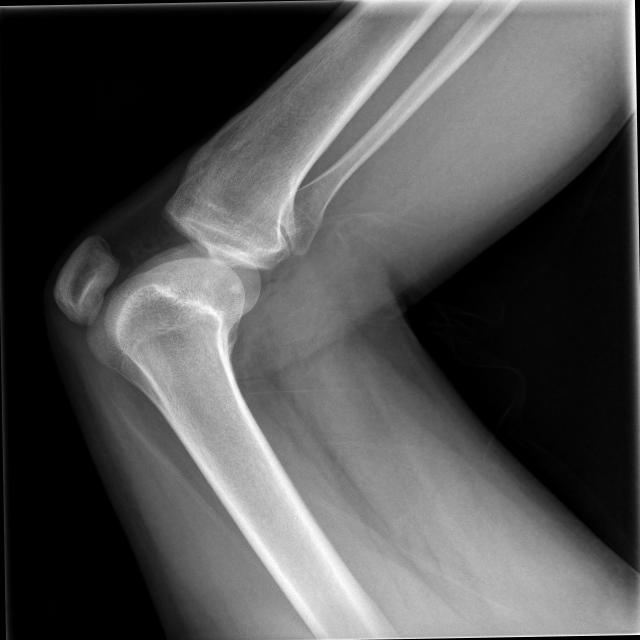Knee: (48, 158, 299, 372)
